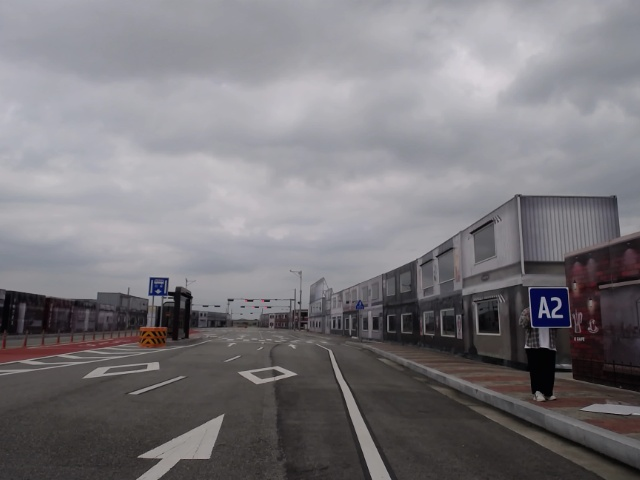delivery_a2: (529, 287, 571, 328)
